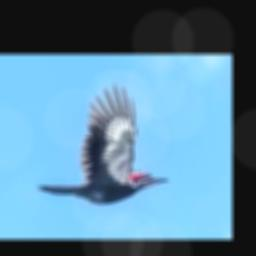Woodpecker: (35, 83, 168, 204)
